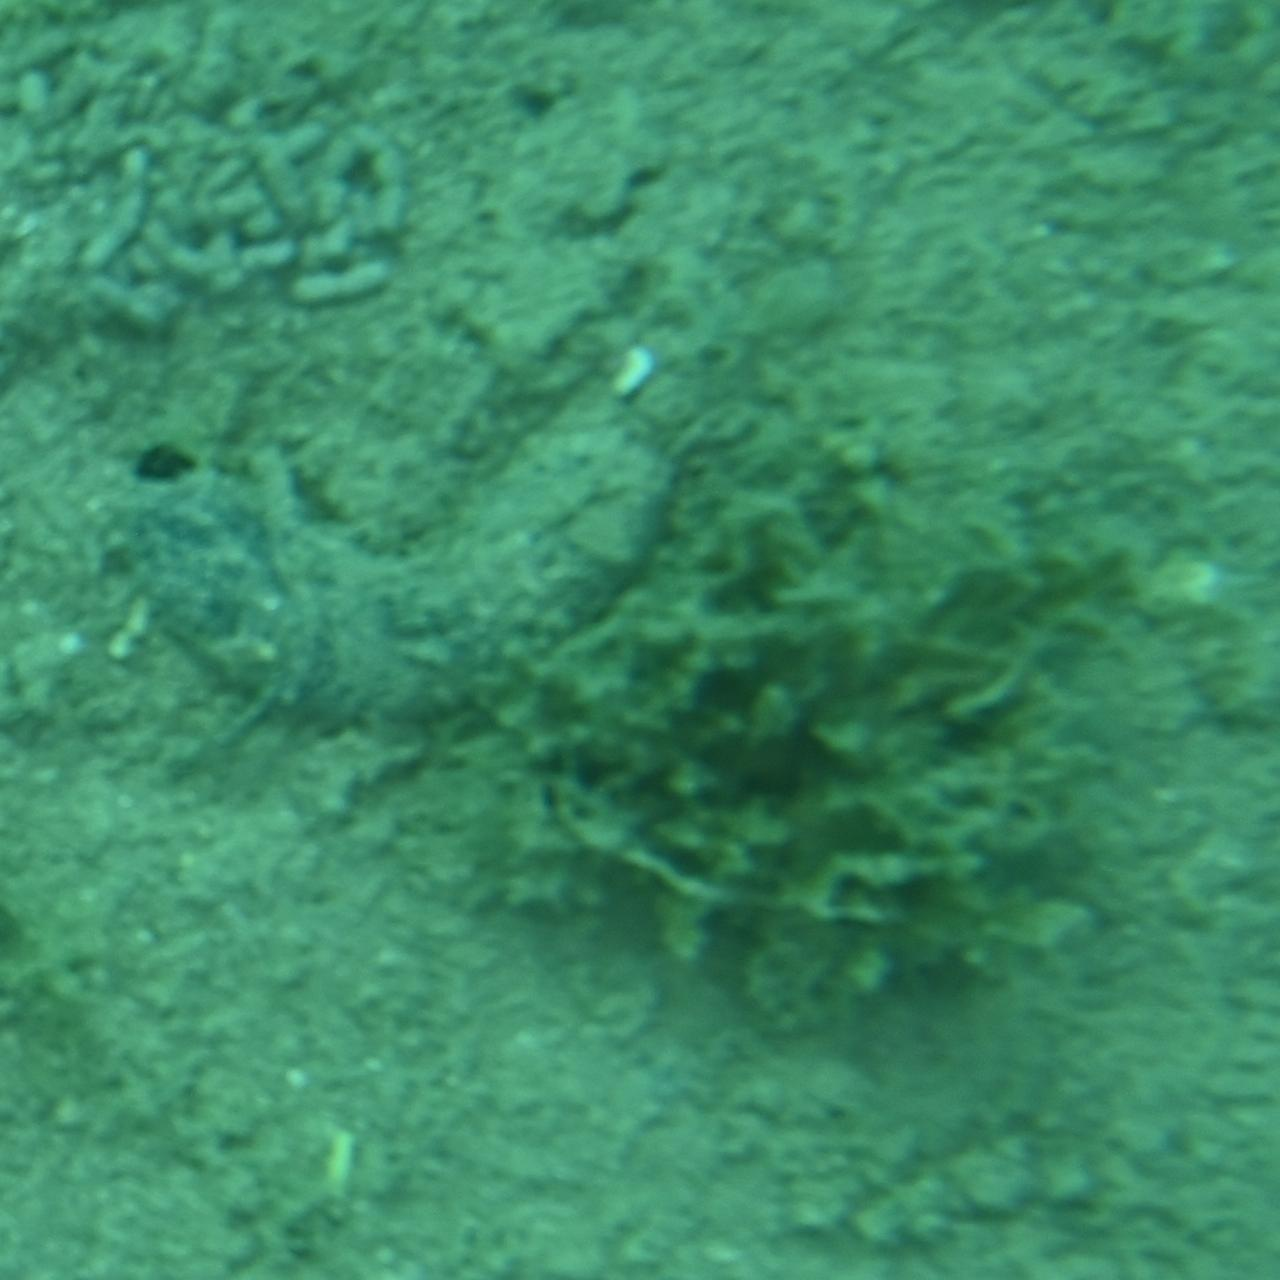Holothuria tubulosa: (88, 329, 754, 741)
Phaeophyceae -cfr Cystoseira-: (523, 452, 1198, 1037)
